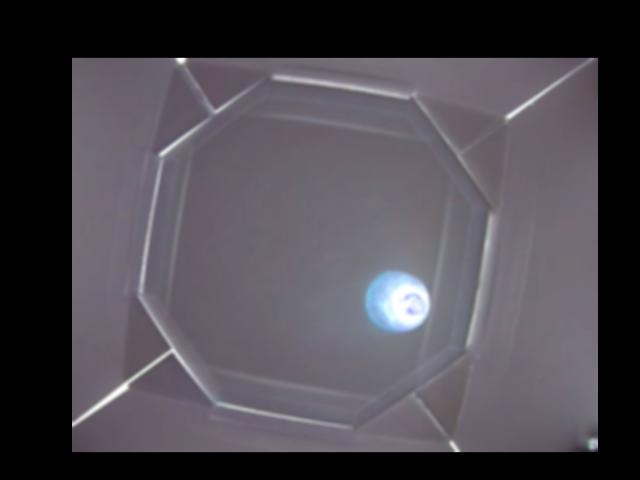Carrot: (362, 271, 431, 334)
